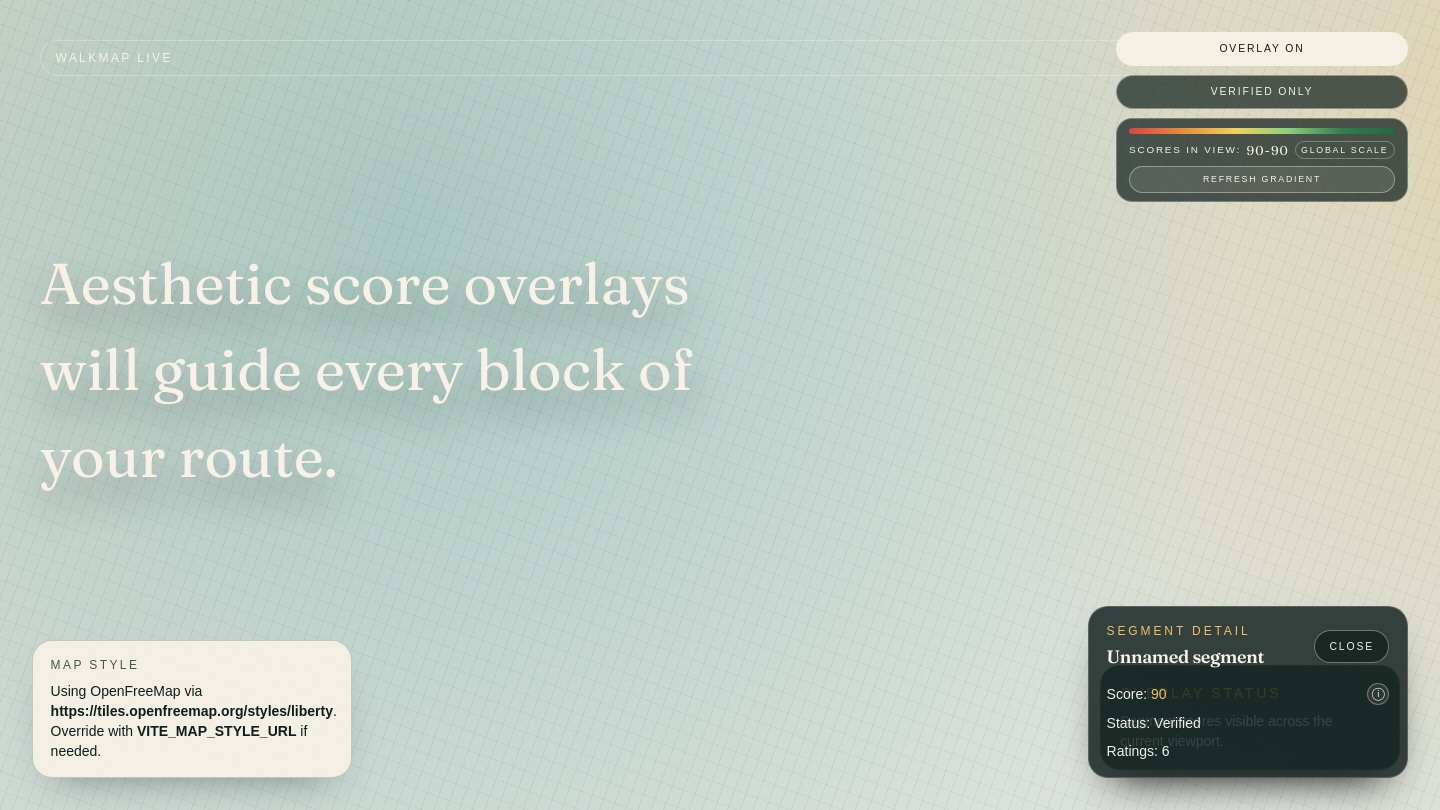
MapView score breakdown › describes blend state for 5+ ratings
Expected: the text "Segment Detail" is shown, [1107,623,1264,639]
Click the button named "score breakdown".
click(1378, 694)  # box [1367,683,1389,705]
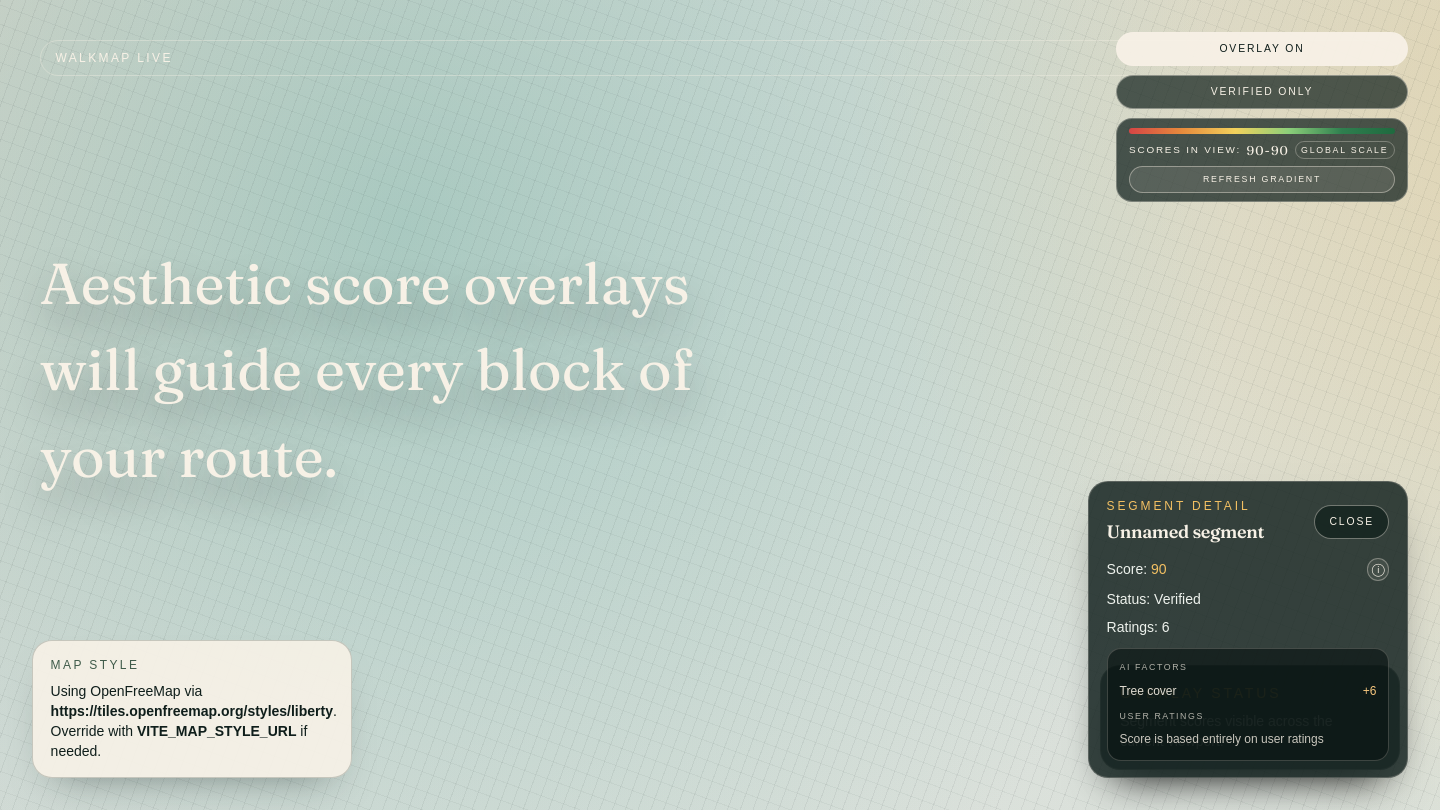
Expected: the text "Score is based entirely on user ratings" is shown, [1120,732,1324,746]
